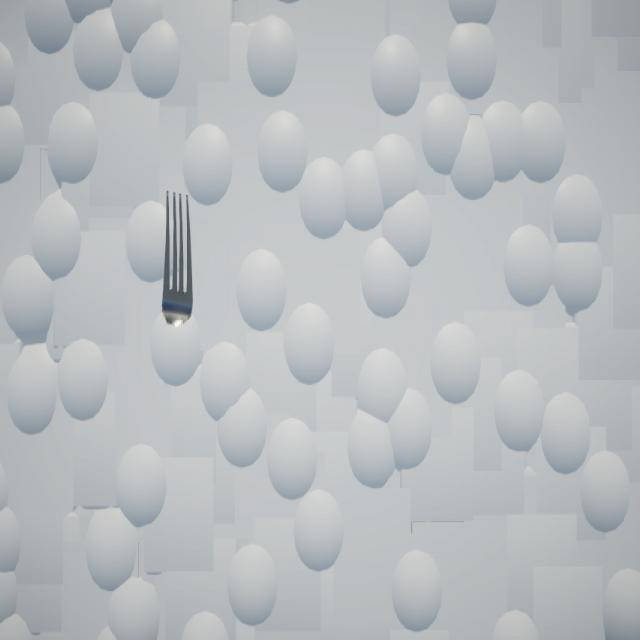top_folk: (162, 193, 194, 329)
